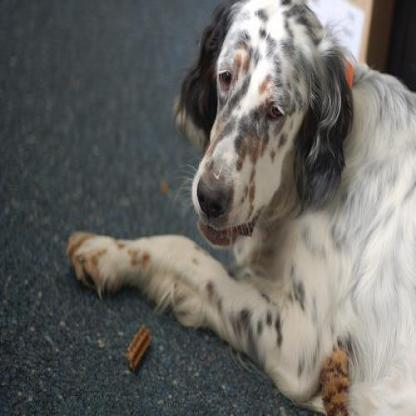English_setter: (65, 0, 414, 414)
